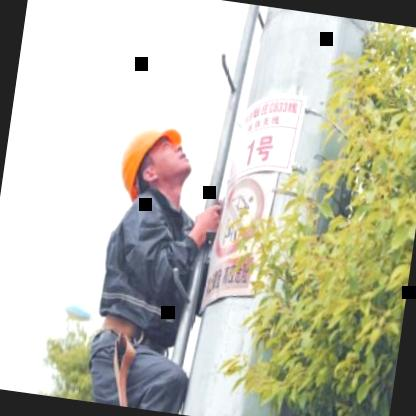helmet: (115, 115, 200, 208)
